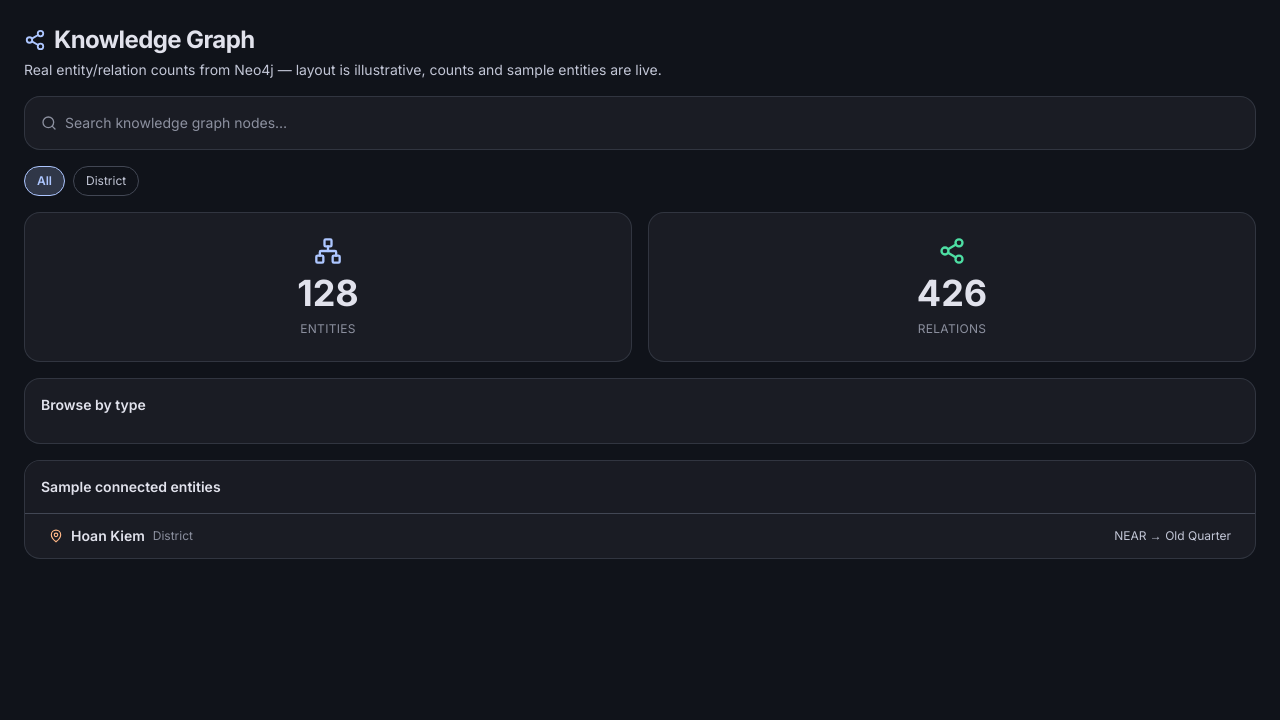
Test: KnowledgeGraphPage › closes the entity detail modal via the close button
Expected: the number of buttons with test id "knowledge-sample-row" is 1, [25,514,1255,558]
Click the text "Hoan Kiem". click: (108, 536)
box: [71,526,145,546]
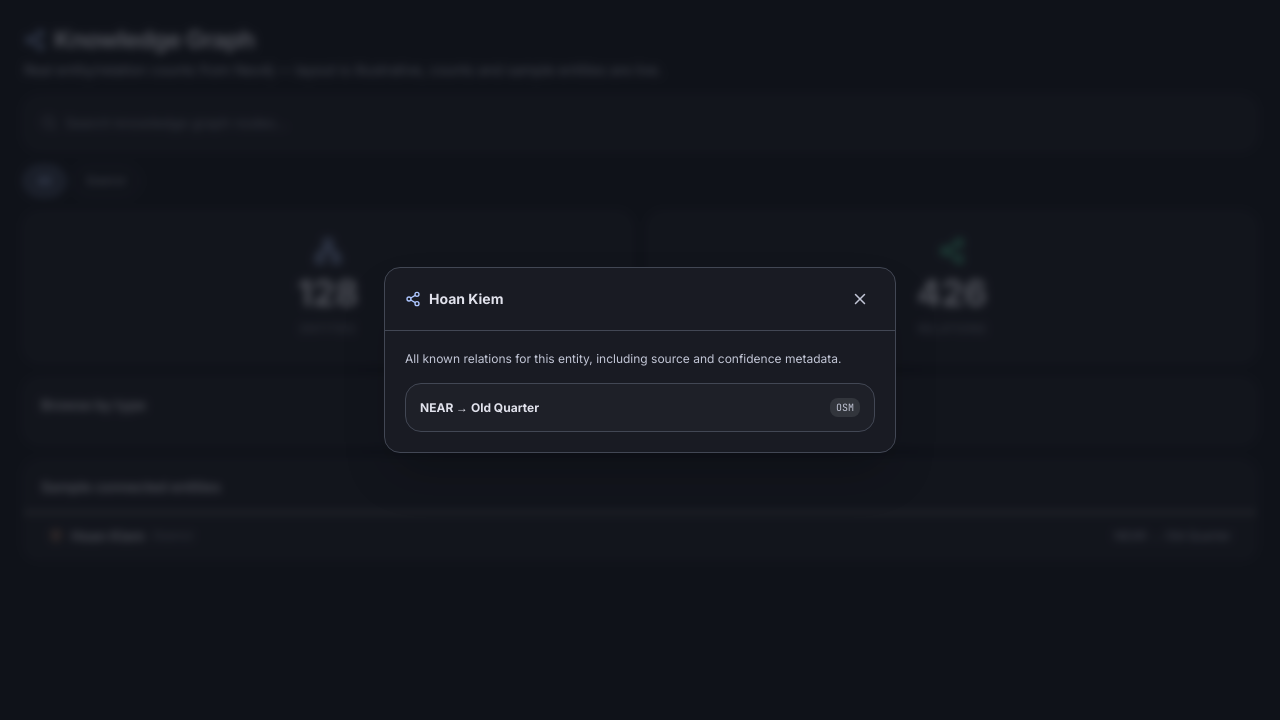
Expected: the dialog with test id "knowledge-entity-modal" is shown, [384,267,896,453]
Click the button named "Close". click: (860, 299)
box: [845,284,875,314]
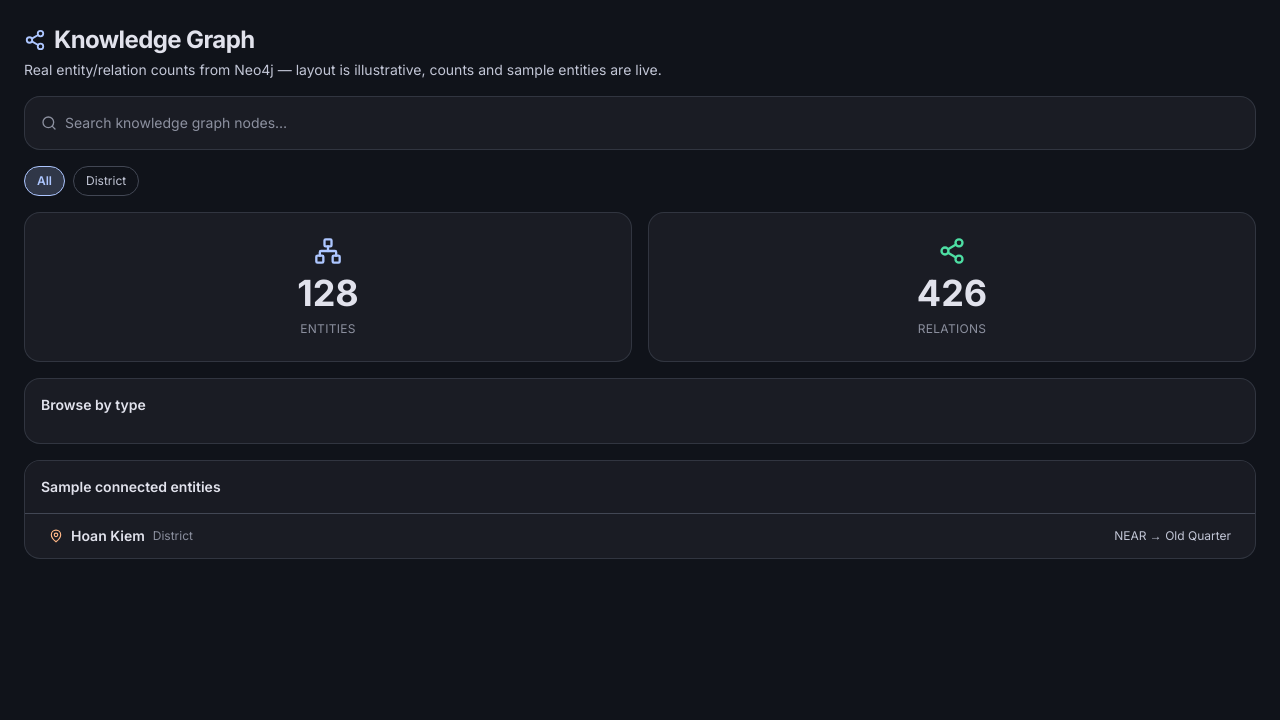
Expected: the dialog with test id "knowledge-entity-modal" is gone
